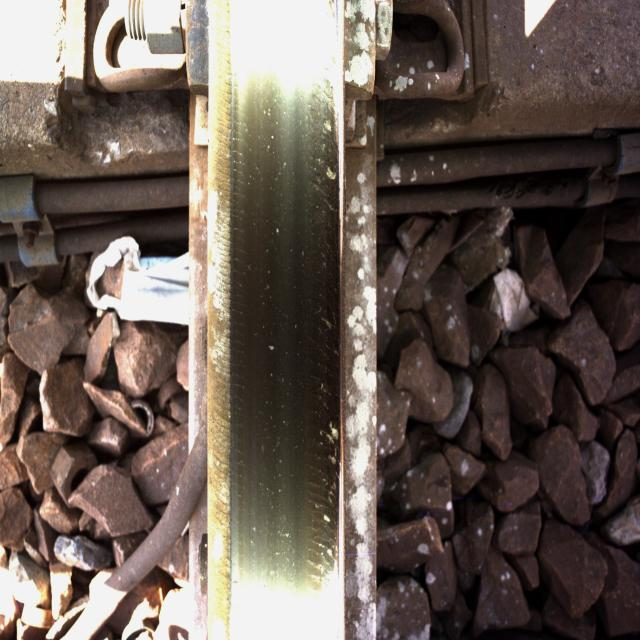normal: (236, 29, 339, 604)
